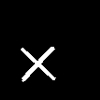single_crochet: (21, 47, 54, 80)
